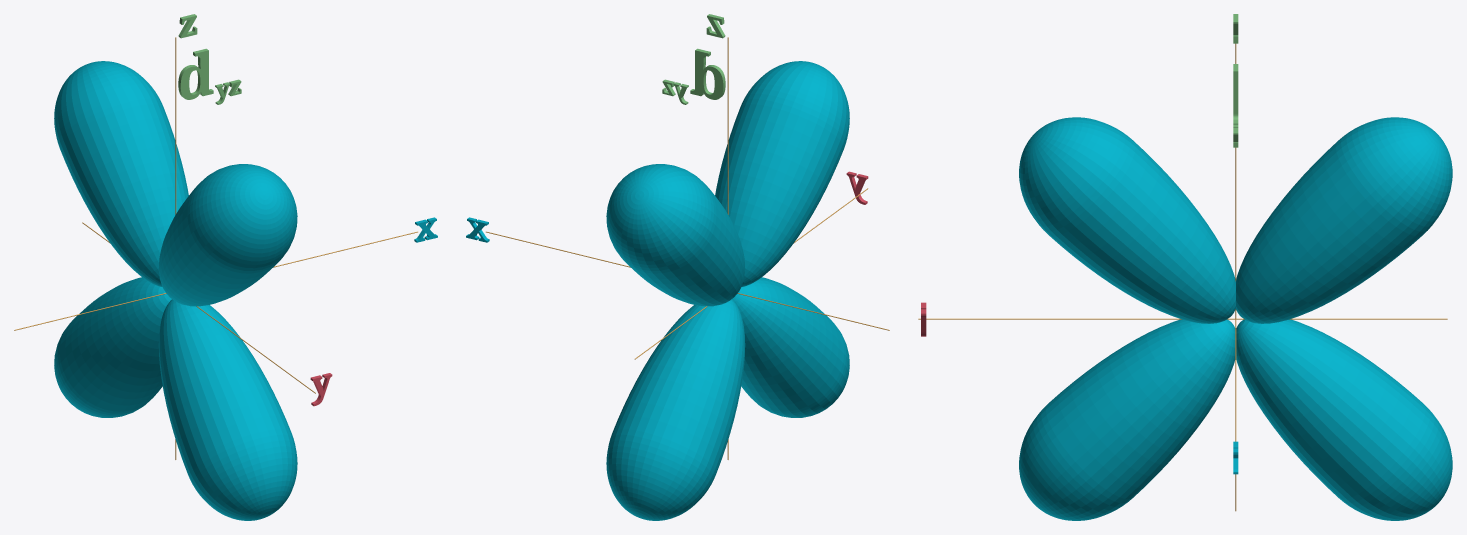
The model's file is dyz-orbital.glb.
3 views of the same model, side by side, from view 1: azimuth 30°, elevation 25°; view 2: azimuth 150°, elevation 25°; view 3: azimuth 270°, elevation 25° (orthographic). The views are drawn at different scales.
Parts seen in each view (by area): view 1: Mesh_Mesh_head_geo.001_lambert2SG.001; view 2: Mesh_Mesh_head_geo.001_lambert2SG.001; view 3: Mesh_Mesh_head_geo.001_lambert2SG.001.
Boxes of the visible parts, x1,y1,x2,y2 form: Mesh_Mesh_head_geo.001_lambert2SG.001: (14, 14, 437, 520); Mesh_Mesh_head_geo.001_lambert2SG.001: (466, 14, 889, 520); Mesh_Mesh_head_geo.001_lambert2SG.001: (918, 14, 1452, 520).
Size of the model in its own units: 105 by 105 by 101.
